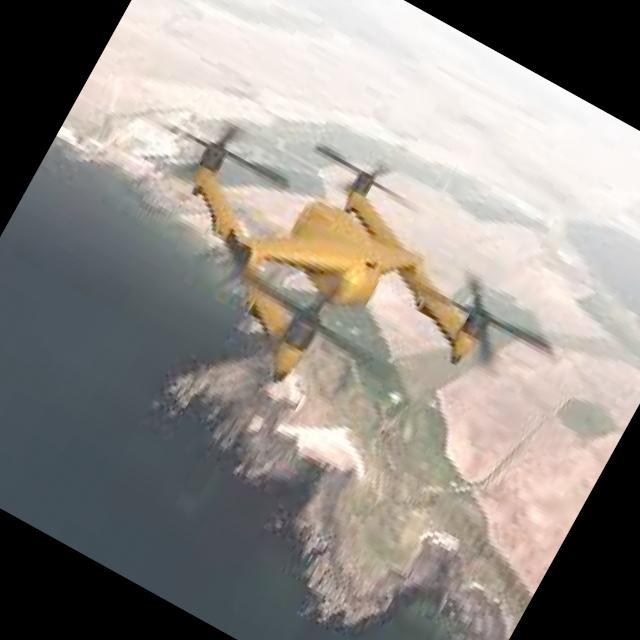drone: (82, 56, 586, 484)
